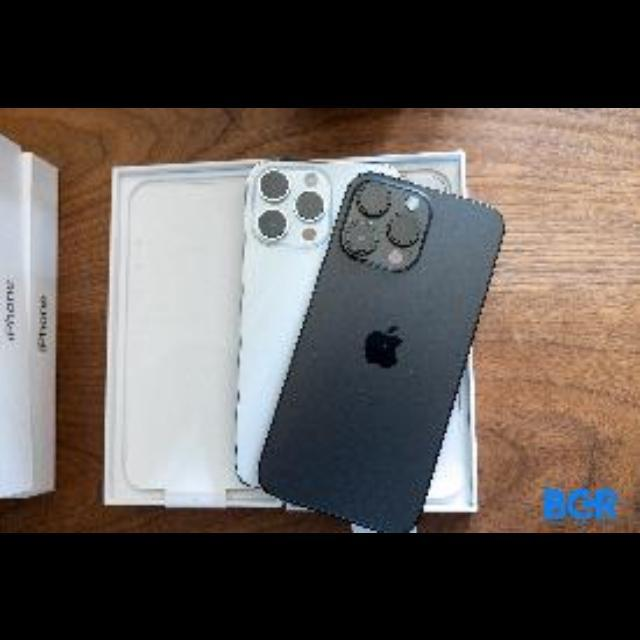Phone: (259, 172, 505, 530), (236, 162, 398, 483)
